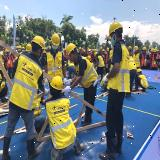Helmet: (31, 34, 46, 51), (50, 76, 64, 92), (66, 42, 76, 57), (51, 32, 60, 46), (134, 46, 139, 51), (87, 55, 91, 61), (4, 48, 10, 52), (142, 46, 147, 50), (94, 52, 98, 56), (18, 45, 22, 49), (150, 48, 154, 52), (154, 48, 157, 52), (102, 49, 105, 52), (22, 46, 25, 49), (16, 46, 19, 49), (100, 46, 102, 50), (79, 47, 81, 49), (65, 48, 66, 50)
Vest: (10, 53, 43, 114), (46, 99, 76, 149), (111, 45, 130, 94), (73, 56, 99, 87), (46, 50, 63, 80), (138, 74, 149, 90), (66, 42, 76, 56), (133, 54, 141, 68), (96, 56, 105, 68), (152, 54, 158, 68), (142, 54, 147, 66)
